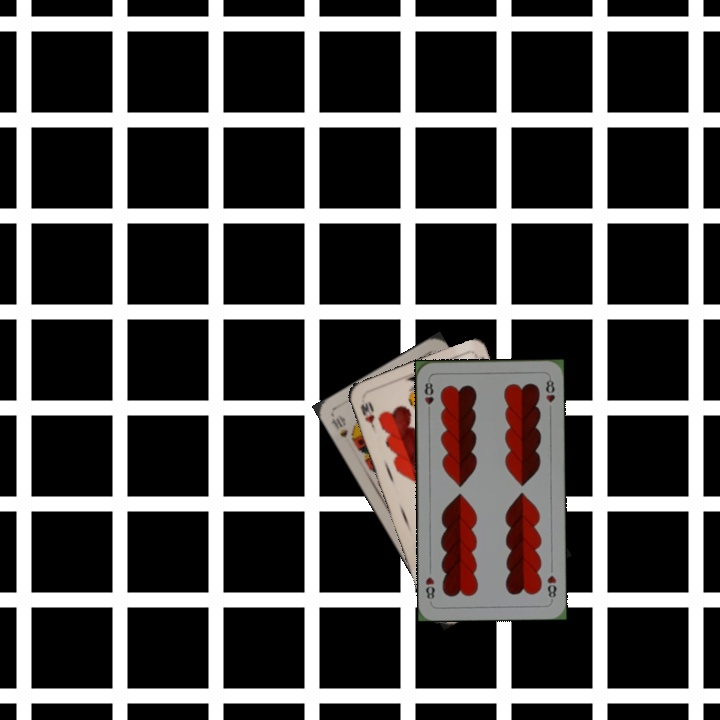H10: (356, 397, 378, 432)
H8: (421, 375, 436, 416), (543, 571, 559, 603)
S10: (327, 411, 351, 441)
